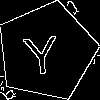Y: (21, 26, 61, 76)
